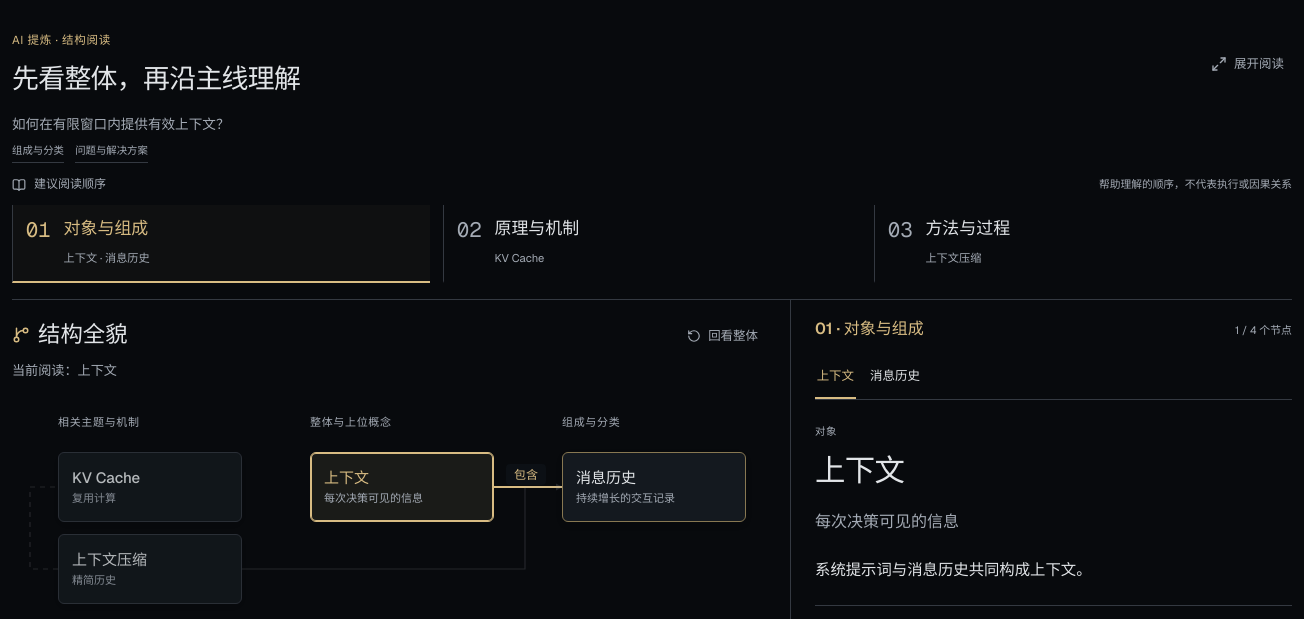
guided structure reader › keeps map positions and all nodes while exploring, then returns to the reading cursor
This screenshot has width=1304, height=619.
Click the button with aria-label "阅读 原理与机制". click: (537, 228)
box: x1=443 y1=205 x2=861 y2=283
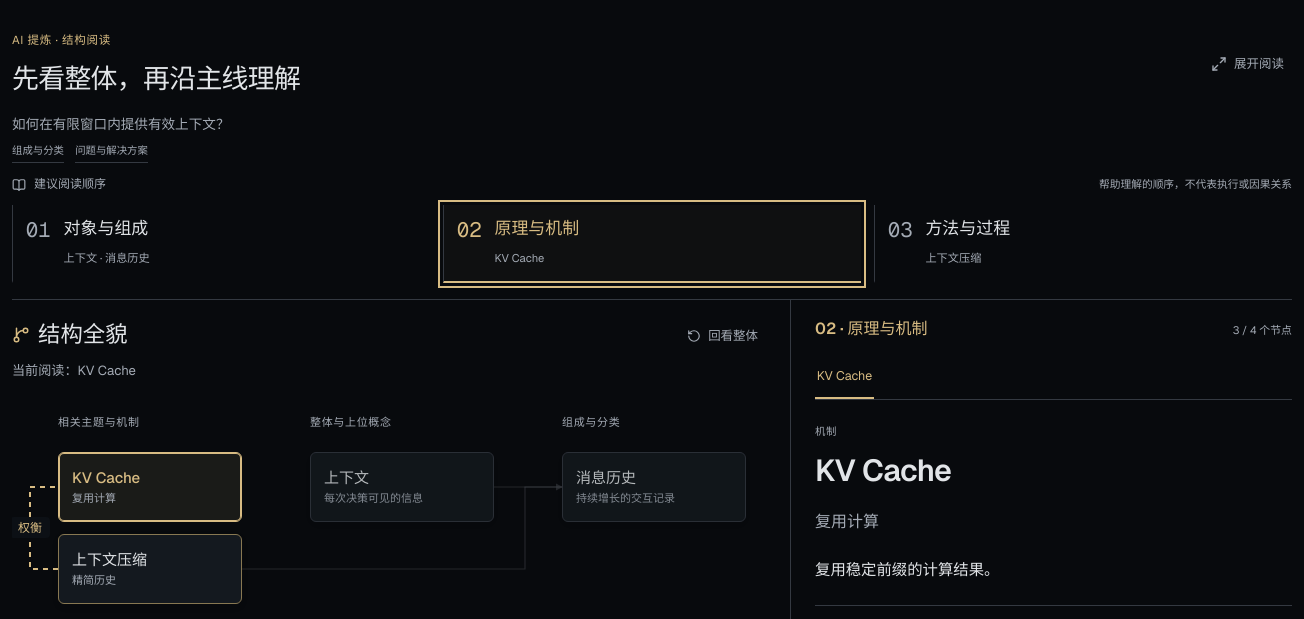
Now the element named "节点解释" shows "复用稳定前缀的计算结果。", box x1=815 y1=560 x2=999 y2=580
Click the button "上下文压缩 精简历史". click: (150, 569)
box: x1=58 y1=534 x2=242 y2=604
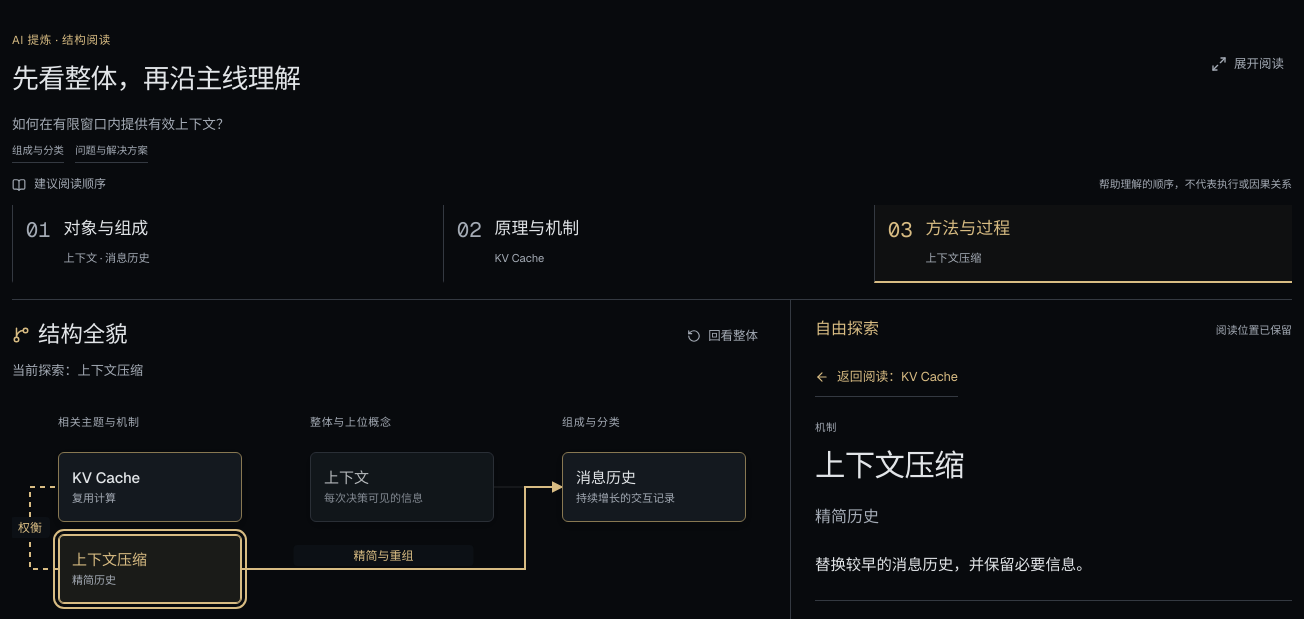
Now the element named "节点解释" shows "替换较早的消息历史，并保留必要信息。", box x1=815 y1=555 x2=1092 y2=575
Click the button "返回阅读：KV Cache". click: (886, 377)
box: x1=815 y1=358 x2=958 y2=396
(page scrolled)
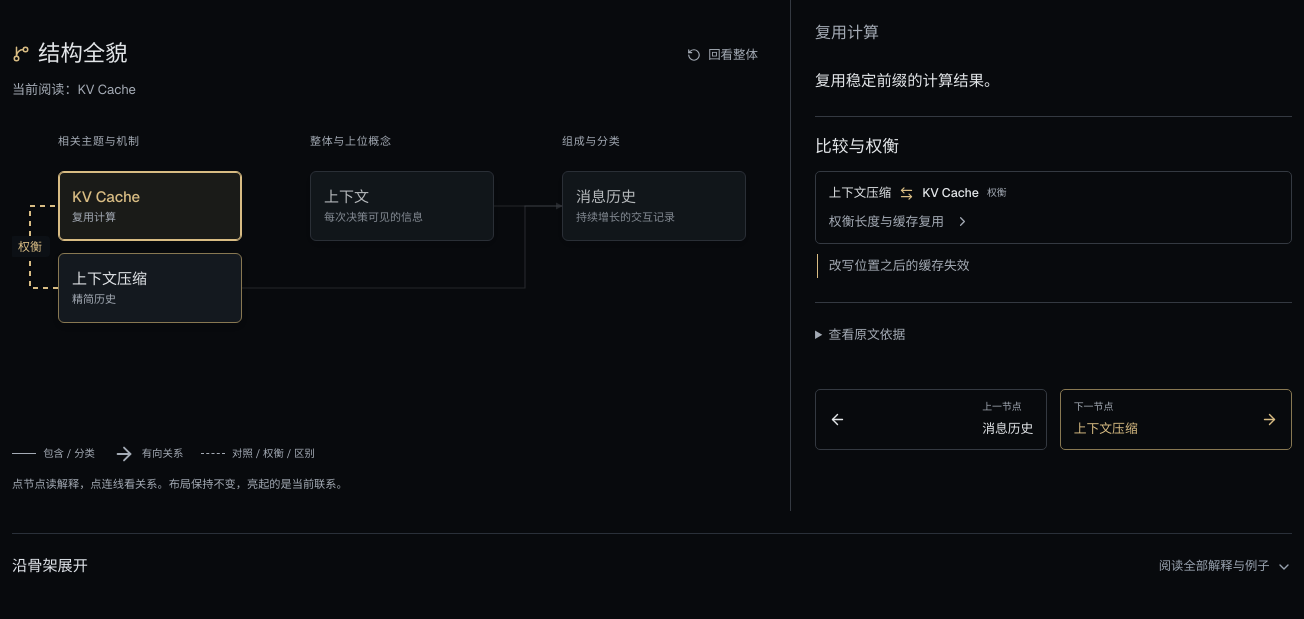
Now the element named "节点解释" shows "复用稳定前缀的计算结果。", box x1=815 y1=71 x2=999 y2=91
Click the button with aria-label "下一节点：上下文压缩". click: (1176, 419)
box: x1=1060 y1=389 x2=1292 y2=450
(page scrolled)
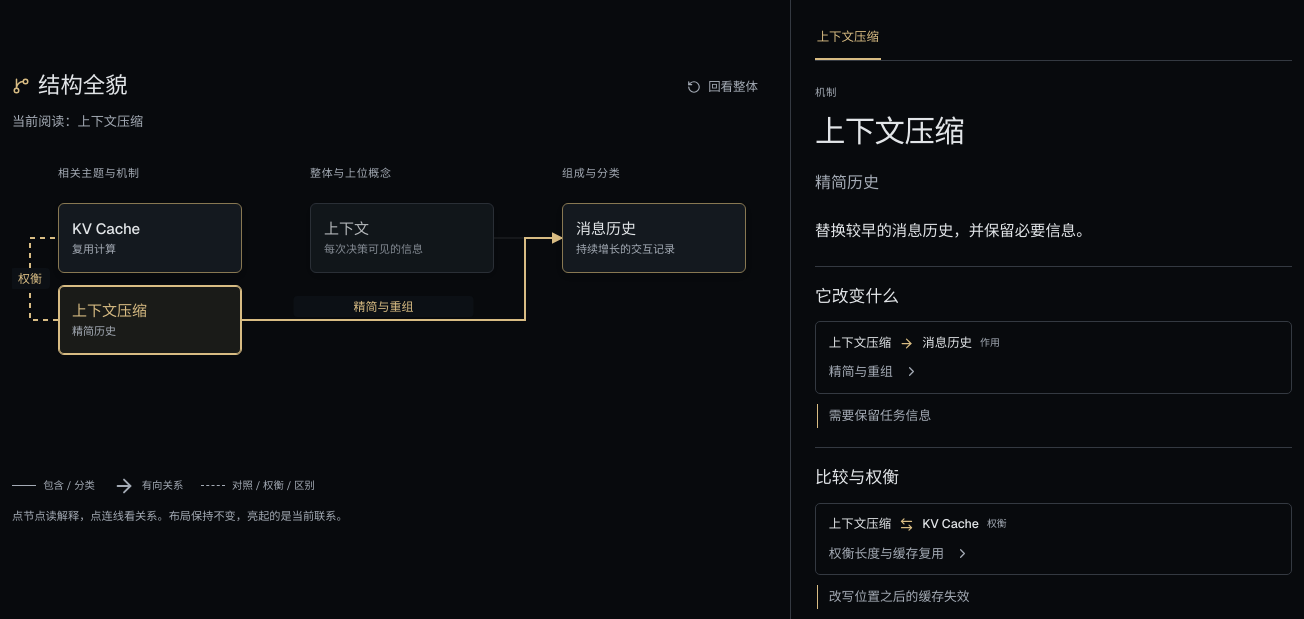
Now the element named "节点解释" shows "替换较早的消息历史，并保留必要信息。", box x1=815 y1=221 x2=1092 y2=241
